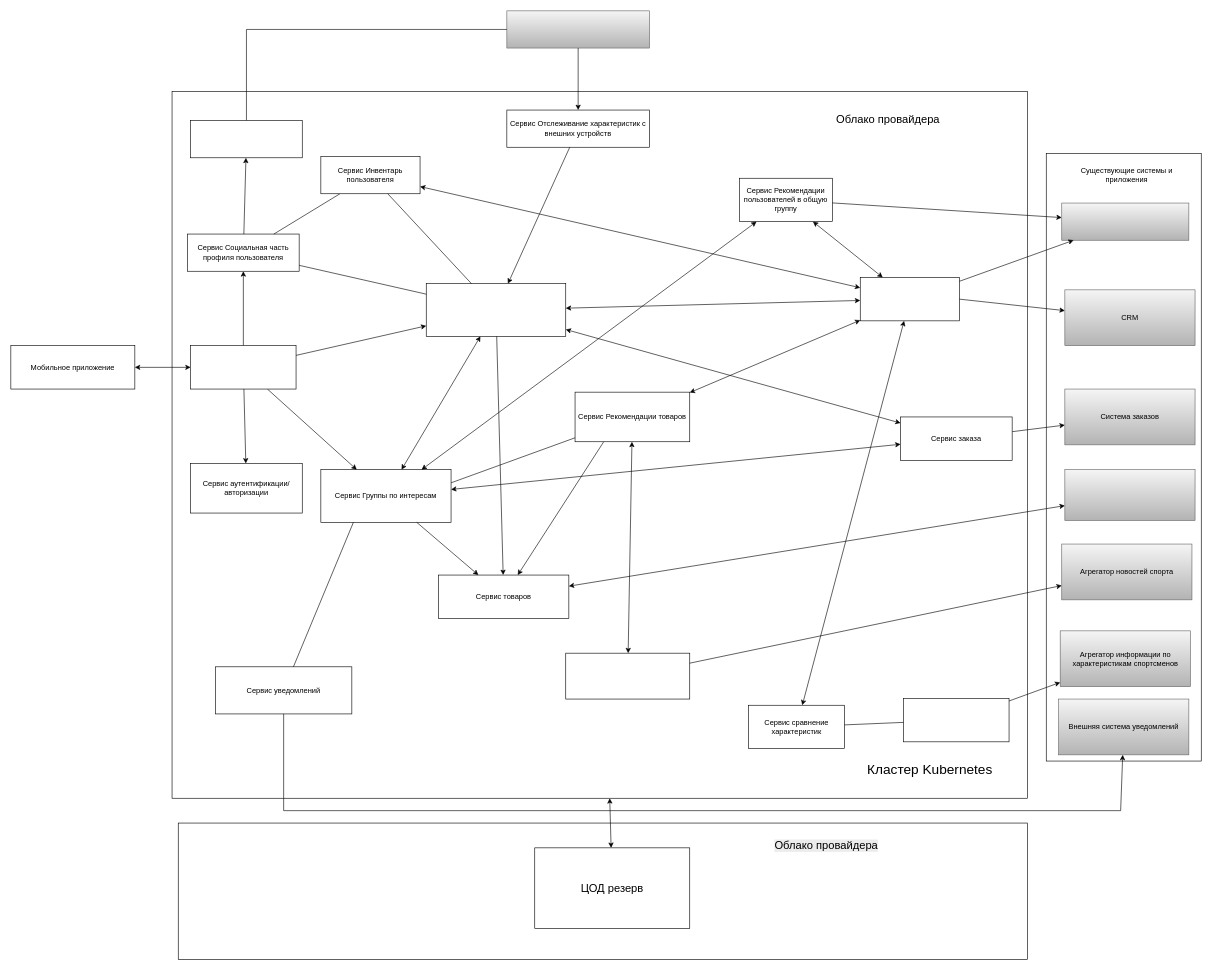
This 1212x970 diagram has some shape labels left out. Here are the shapes that lost their labels. From the top down, the centre of each, then its label:
At pixel 577 29: "Сторонние устройства".
At pixel 246 139: "Сервис Сторонние устройства".
At pixel 1125 221: "Сервис локации".
At pixel 496 309: "Сервис Тренировки".
At pixel 909 299: "Сервис промоакций".
At pixel 243 367: "Gateway".
At pixel 1129 494: "ERP".
At pixel 627 676: "Сервис новостей спорта".
At pixel 956 720: "Сервис характеристиками спортсменов".
